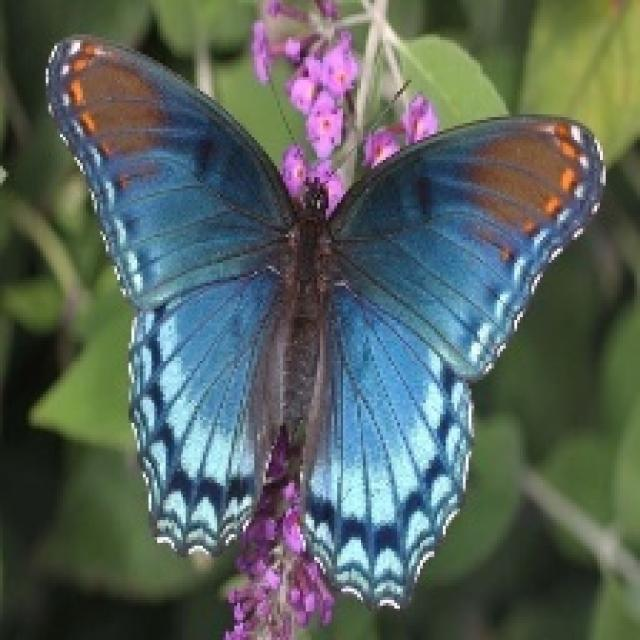butterfly: (40, 29, 606, 612)
